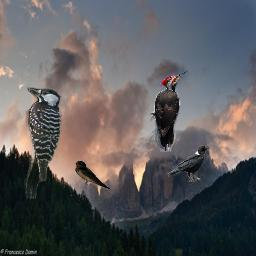Crow: (167, 144, 211, 182)
Swallow: (74, 160, 112, 190)
Woodpecker: (24, 85, 63, 199), (147, 70, 189, 152)
